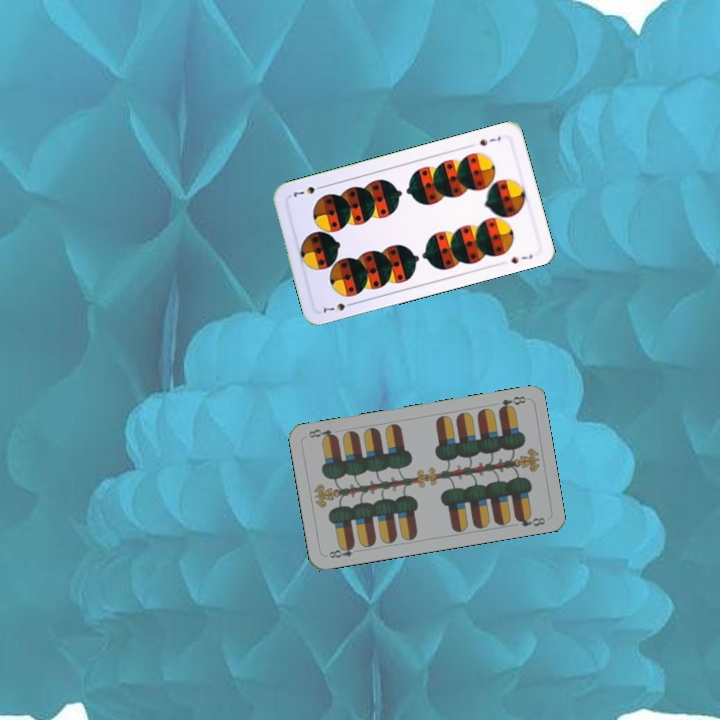E8: (325, 541, 363, 561), (494, 392, 528, 414)
S7: (318, 298, 357, 316), (475, 132, 503, 148)
